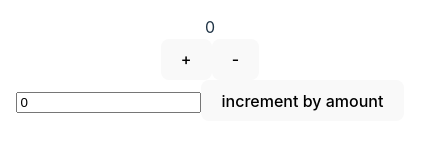
Test: incrementByAmount テスト › baseAmount に 10を指定してincrementByAmount ボタンをクリックしたとき、store の値が10増加する
Step 1. Type "10" into the field with test id "amount" → (109, 102), box x1=16 y1=92 x2=201 y2=113
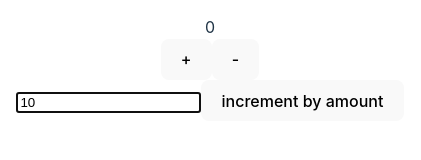
Step 2. Click the button "increment by amount" → (302, 101), box x1=201 y1=80 x2=404 y2=121
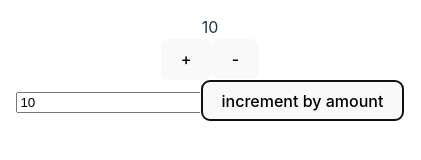
Expected: the text with test id "countValue" reads "10", x1=202 y1=17 x2=218 y2=37
